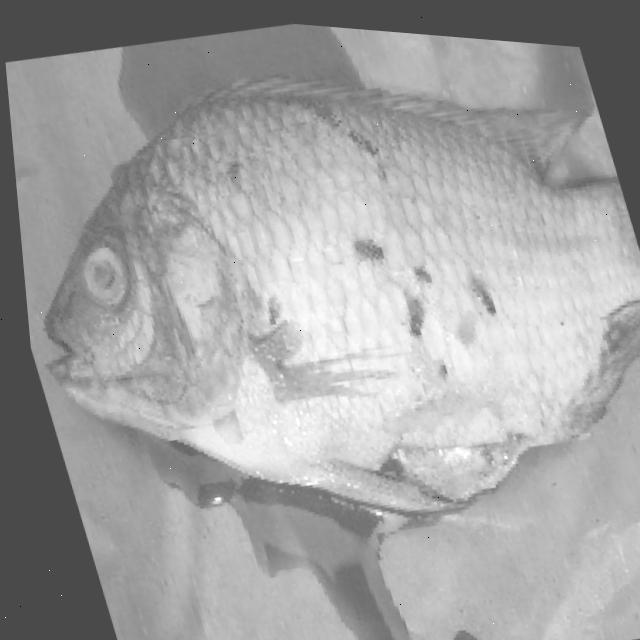Non-Fresh: (67, 47, 540, 493), (54, 230, 147, 327)
